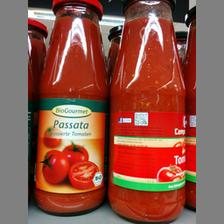Tomatensauce: (108, 0, 188, 224), (32, 0, 108, 216)
